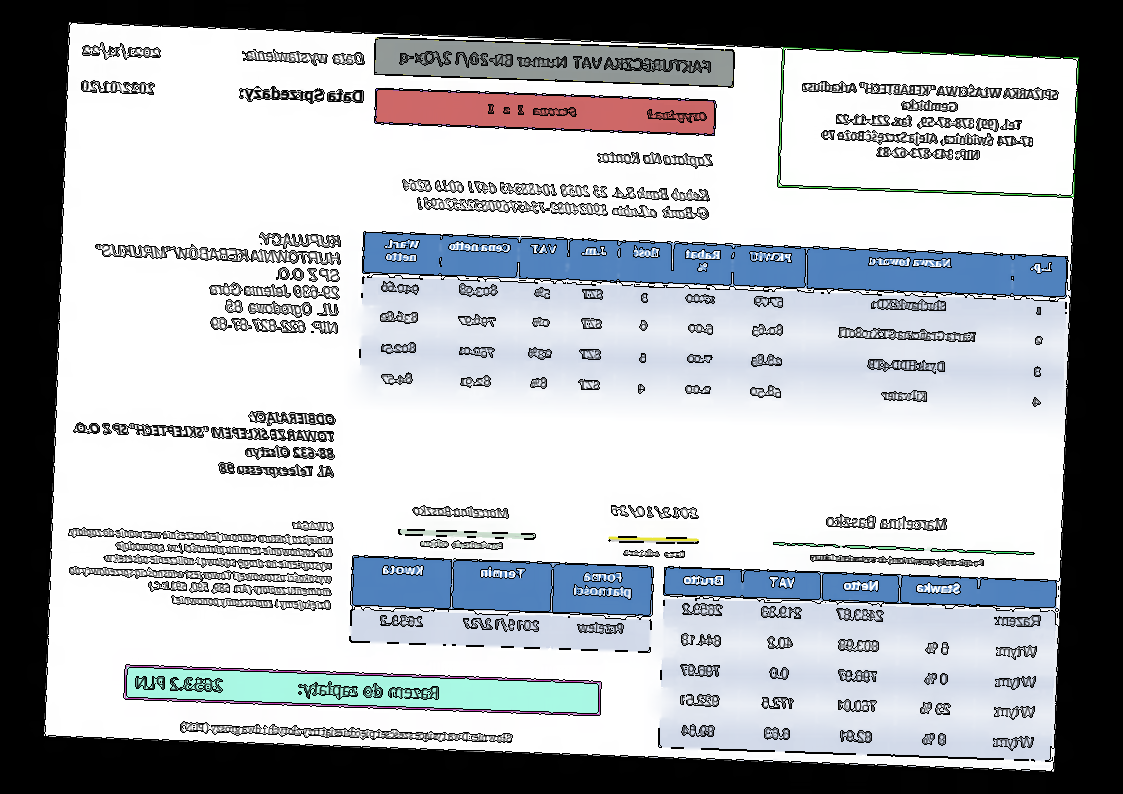Table: (356, 228, 1069, 421), (657, 566, 1059, 763), (349, 554, 655, 653)
TextBox: (91, 223, 345, 337), (65, 510, 336, 613), (799, 75, 1062, 166), (69, 401, 339, 481), (400, 174, 712, 222), (397, 46, 715, 79), (178, 718, 515, 747), (136, 671, 441, 703), (483, 100, 710, 127), (235, 82, 366, 108), (808, 552, 987, 570), (240, 45, 368, 70), (593, 146, 716, 170), (826, 513, 949, 533), (79, 40, 165, 63), (607, 502, 701, 521), (411, 503, 510, 521), (77, 78, 159, 97), (419, 537, 505, 552), (622, 545, 686, 560)
